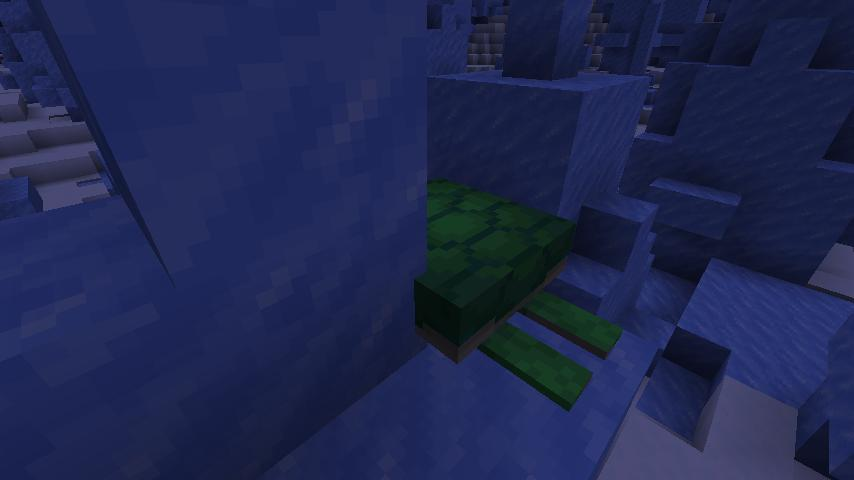turtle: (421, 168, 629, 413)
